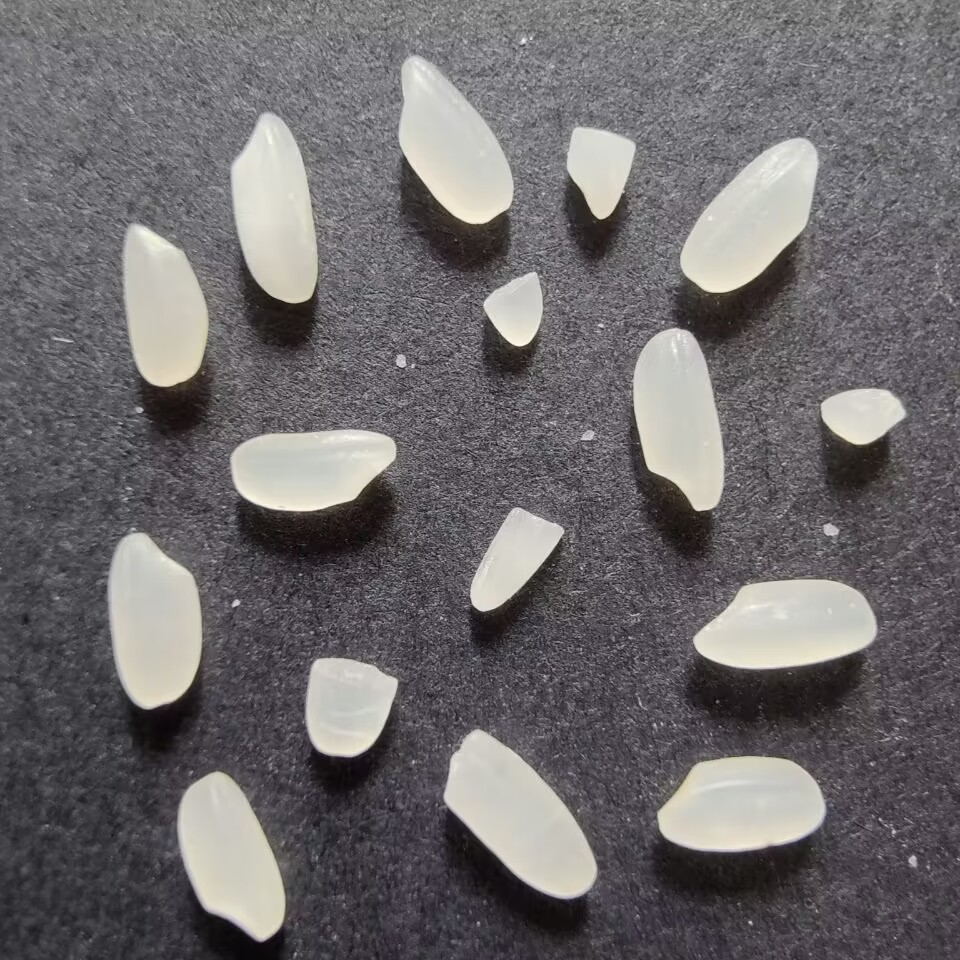broken: (297, 652, 404, 764), (462, 501, 568, 614), (561, 120, 640, 222), (473, 269, 553, 352), (814, 383, 911, 451)
rice: (438, 718, 600, 907), (675, 134, 821, 297), (391, 54, 521, 226), (172, 767, 291, 952), (224, 108, 329, 307), (689, 572, 882, 676), (102, 523, 205, 715), (643, 752, 829, 856), (630, 324, 728, 517), (115, 219, 213, 395), (226, 425, 400, 518)
